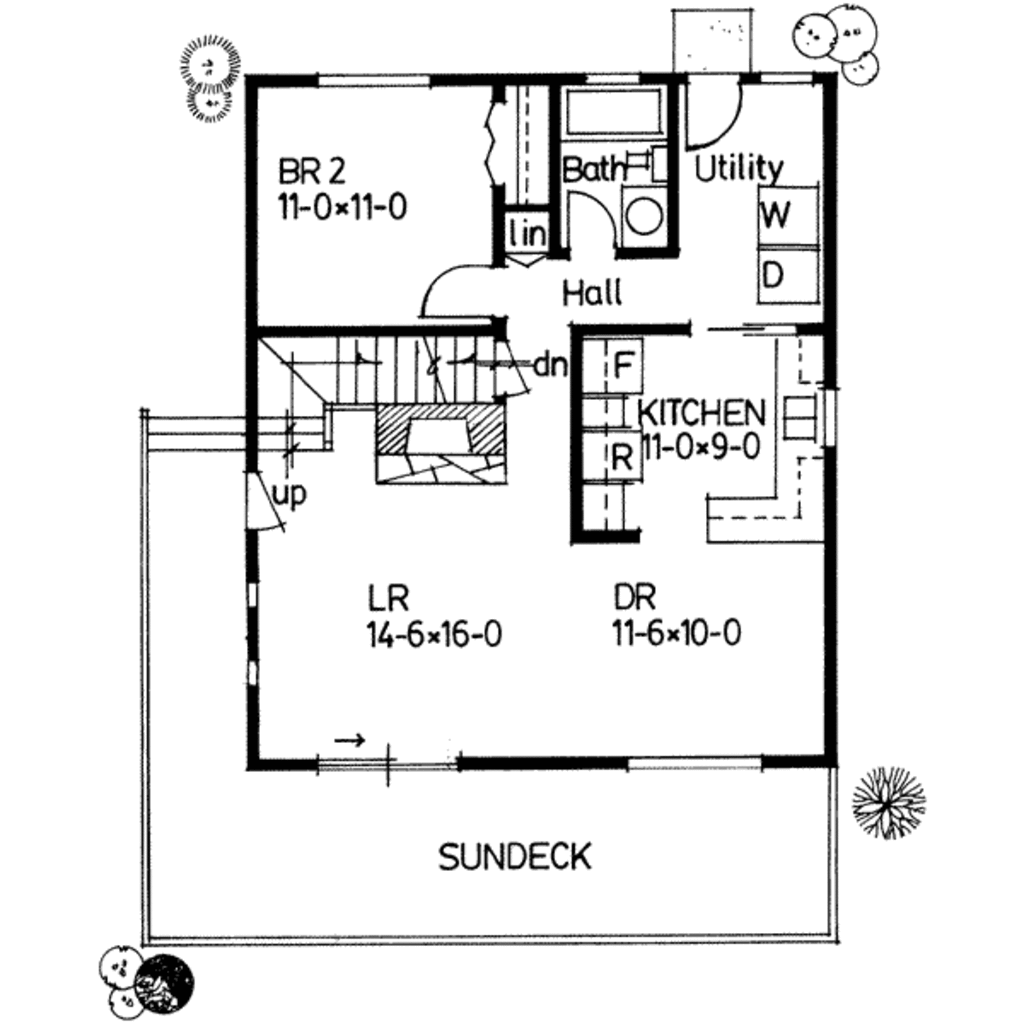door: (417, 260, 505, 324), (682, 71, 747, 154), (558, 185, 623, 258), (245, 460, 285, 535)
large_sink: (613, 138, 667, 181)
small_sink: (613, 176, 669, 249)
stairs: (155, 317, 528, 451)
tub: (556, 79, 672, 132)
twin_sink: (783, 392, 823, 446)
window: (304, 738, 469, 771), (623, 751, 761, 771), (318, 71, 420, 93), (577, 65, 648, 78), (825, 389, 832, 443)
